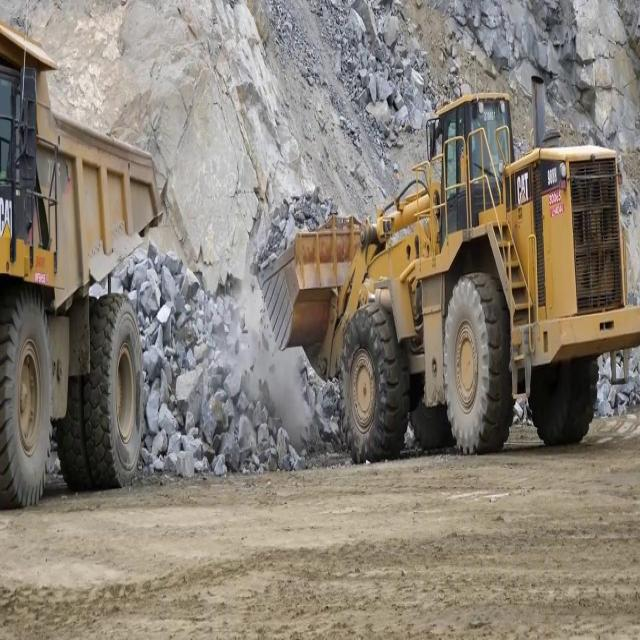Dump Truck: (0, 26, 162, 505)
Loader: (252, 59, 640, 470)
